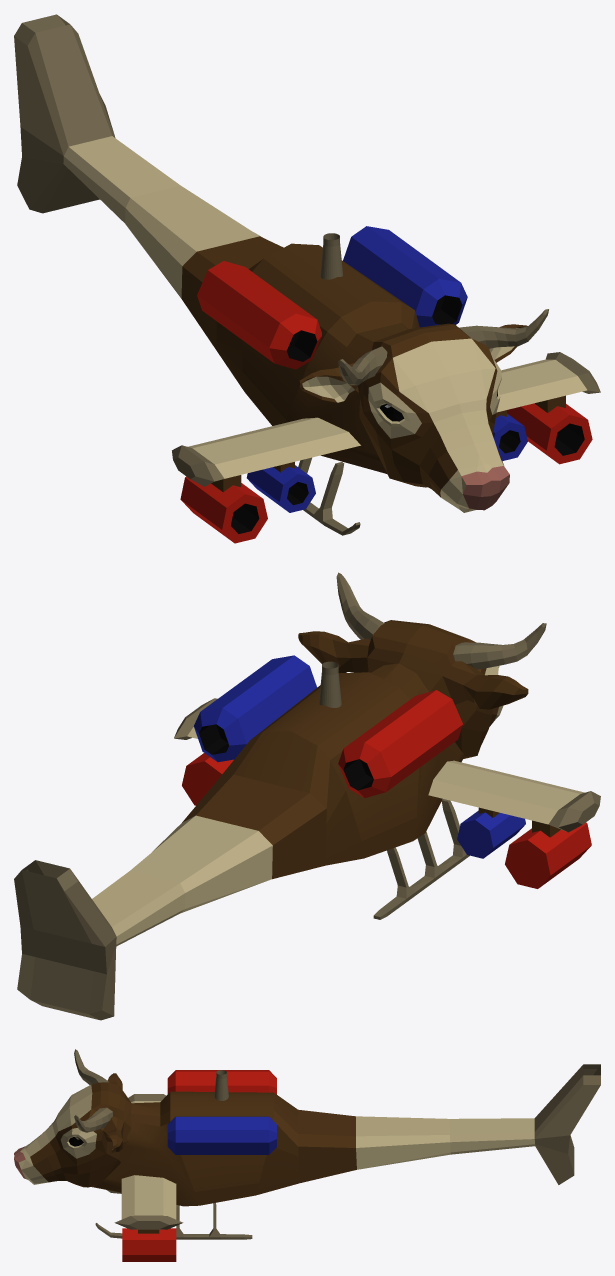
Rendered from helicopter.fbx.
3 renders of one model, top to bottom at view 1: azimuth 30°, elevation 25°; view 2: azimuth 150°, elevation 25°; view 3: azimuth 270°, elevation 25°, orthographic. The views are drawn at different scales.
Visible parts, largest first — view 1: Cowcopter; view 2: Cowcopter; view 3: Cowcopter.
Boxes of the visible parts, left/top/right/bottom form: Cowcopter: left=14, top=14, right=600, bottom=543; Cowcopter: left=14, top=572, right=600, bottom=1020; Cowcopter: left=14, top=1049, right=600, bottom=1261.
Bounding box in the file's own units: 241 × 131 × 476.
